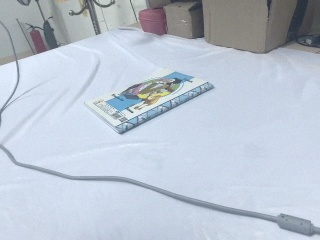book: (81, 70, 219, 138)
box: (201, 1, 315, 54), (165, 1, 204, 40)
